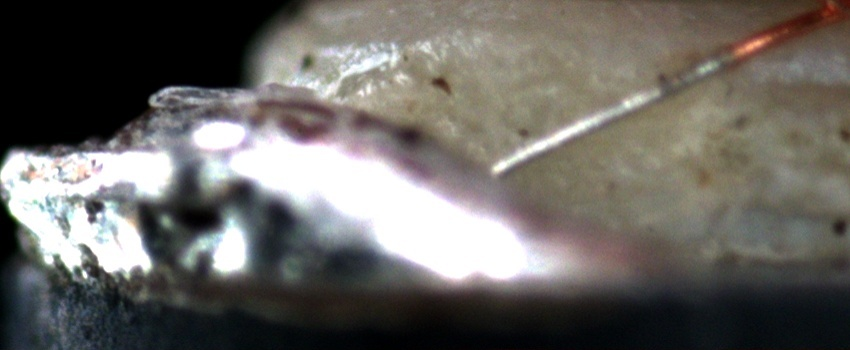DL: (595, 56, 850, 94)
TS: (491, 52, 730, 176)
